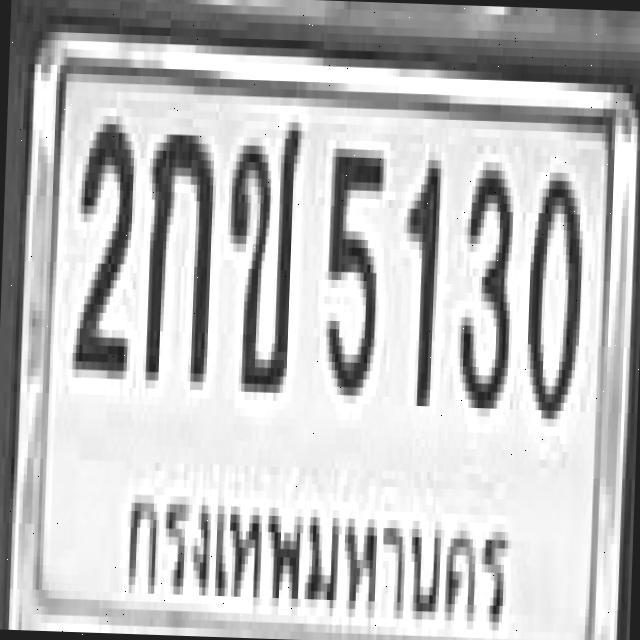0: (522, 163, 582, 411)
1: (397, 151, 438, 398)
10GorGai: (142, 125, 212, 374)
19ChorChang: (222, 112, 298, 385)
2: (68, 115, 132, 371)
3: (454, 160, 512, 408)
5: (321, 140, 381, 388)
Bangkok: (114, 466, 521, 640)
